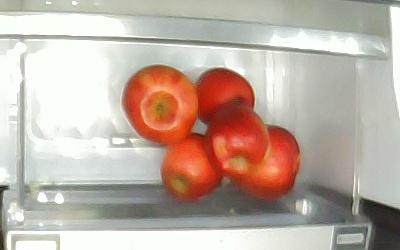apple: (119, 64, 199, 145), (230, 126, 300, 198), (203, 105, 269, 180), (160, 131, 220, 199), (195, 67, 255, 126)
